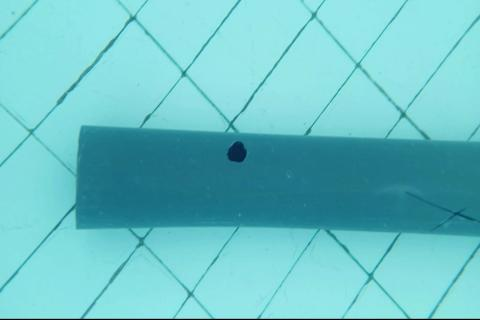kebocoran: (226, 139, 247, 164)
keretakan: (405, 190, 480, 230)
